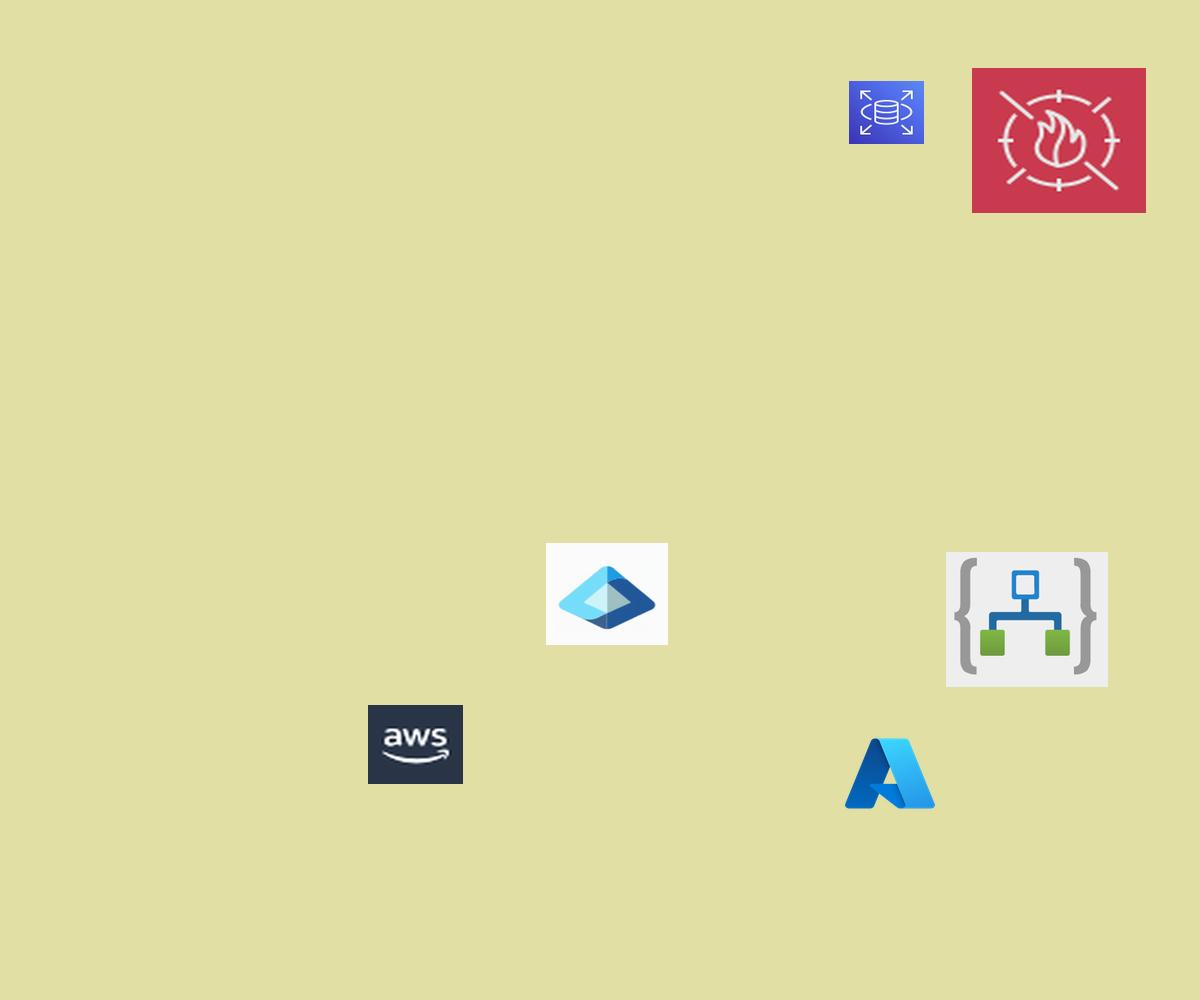AWS-Cloud-logo: (368, 705, 463, 784)
AWS-RDS: (849, 81, 924, 144)
AWS-WAF: (972, 68, 1146, 213)
Azure_integration-204-Logic-Apps: (946, 552, 1108, 687)
Azure_microsoft_entra: (546, 543, 668, 645)
Azure_services: (841, 733, 939, 814)
